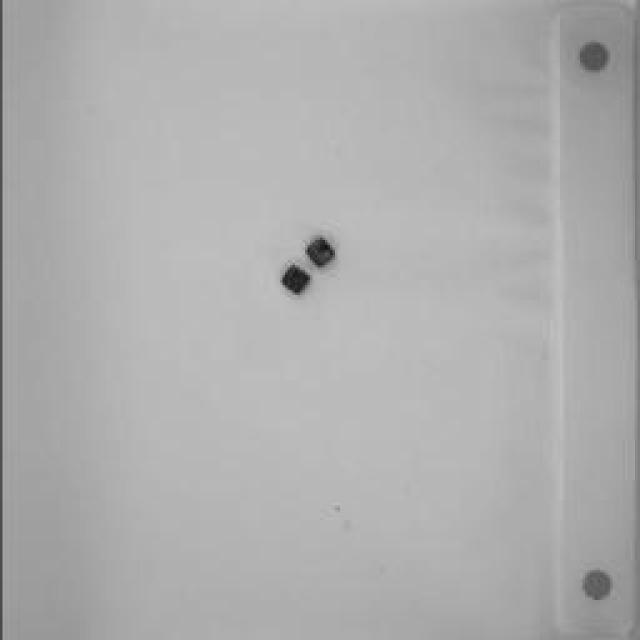dice_1: (306, 236, 336, 269)
dice_5: (279, 266, 311, 296)
